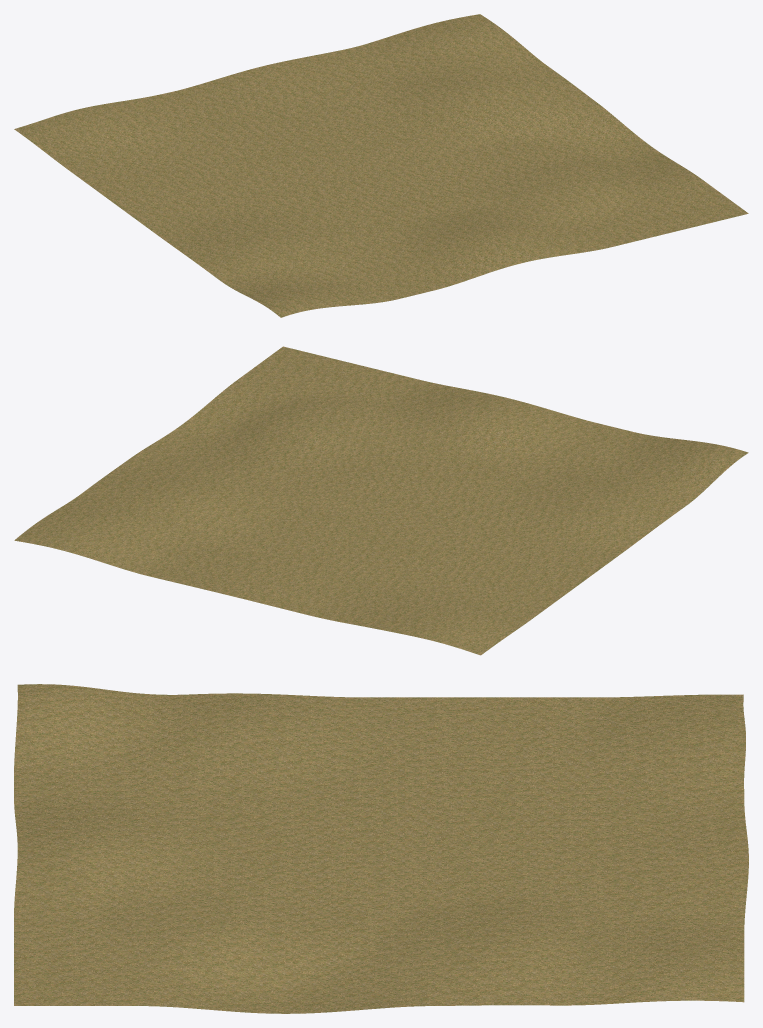
The model's file is grass.fbx.
3 views of the same model, one above another, from view 1: azimuth 30°, elevation 25°; view 2: azimuth 150°, elevation 25°; view 3: azimuth 270°, elevation 25° (orthographic). The views are drawn at different scales.
Parts seen in each view (by area): view 1: Grid; view 2: Grid; view 3: Grid.
Boxes of the visible parts, x1,y1,x2,y2 form: Grid: (14,14,748,317); Grid: (14,346,748,655); Grid: (14,684,748,1013).
Bounding box in the file's own units: 10057 × 343 × 10063.
1 material, 1 textured.
